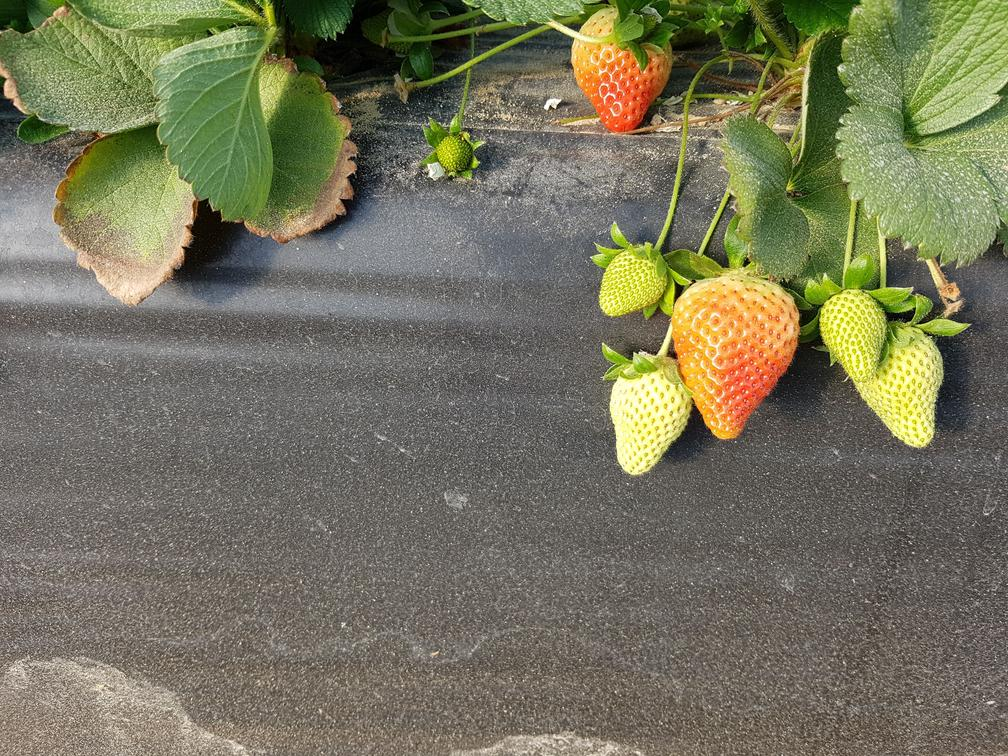Ripe: (684, 275, 806, 448), (568, 10, 679, 135)
Unripe: (599, 346, 694, 489), (880, 332, 949, 459), (815, 285, 889, 382), (598, 237, 671, 322), (434, 134, 472, 174)
